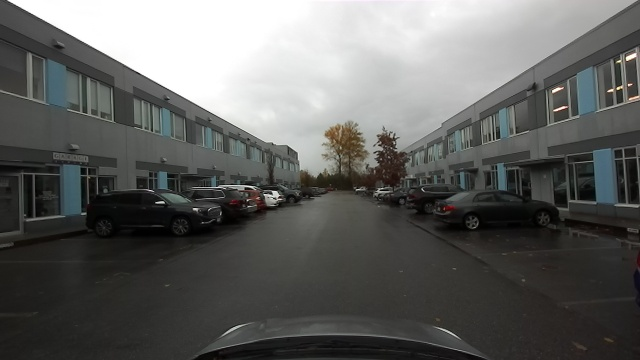car: (88, 189, 225, 238), (433, 190, 554, 233), (402, 185, 433, 214), (228, 187, 248, 221), (251, 190, 266, 213), (286, 189, 301, 202), (371, 186, 390, 193), (268, 195, 279, 207)
